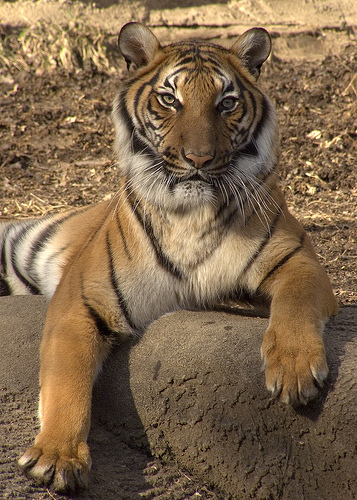Tigre: (55, 18, 341, 471)
